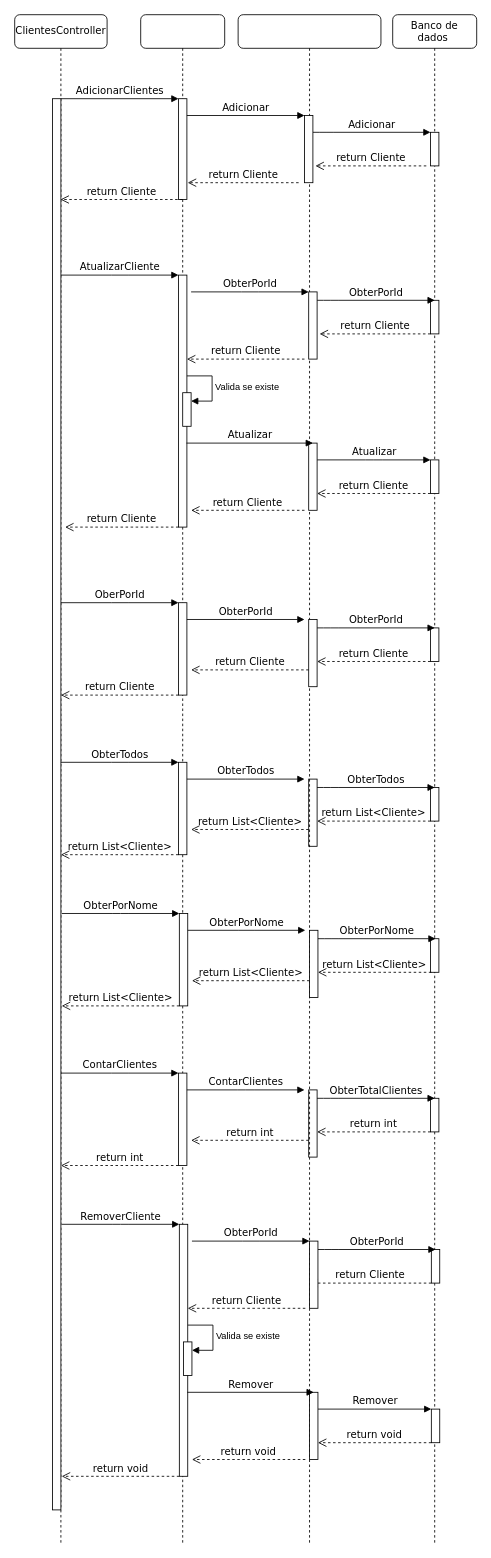
The diagram is 491 pixels wide and 1558 high, and some of its shapes have lost their labels. Here are the shapes that lost their labels. From the top down, the box of each, then its label:
(140, 14, 225, 1544): ClienteService
(237, 14, 381, 1544): ClienteRepository
